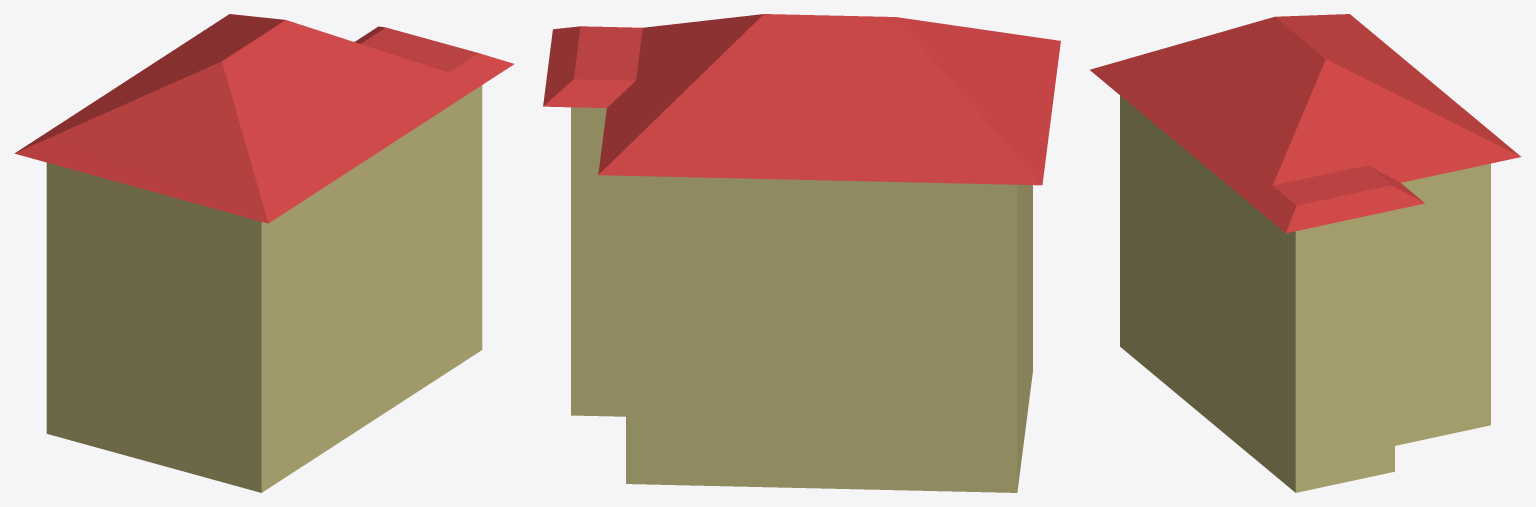
3 renders of one model, left to right at view 1: azimuth 30°, elevation 25°; view 2: azimuth 150°, elevation 25°; view 3: azimuth 270°, elevation 25°, orthographic. The views are drawn at different scales.
Parts seen in each view (by area): view 1: group_9, group_7, group_5, group_3; view 2: group_9, group_7, group_5, group_3, group_4; view 3: group_9, group_7, group_5, group_3, group_4, group_8.
Boxes of the visible parts, <box> form: group_9: <box>46,115,436,492</box>; group_7: <box>14,14,455,223</box>; group_5: <box>436,85,482,378</box>; group_3: <box>355,26,513,101</box>; group_9: <box>626,175,1032,492</box>; group_7: <box>598,14,1060,185</box>; group_5: <box>571,107,625,416</box>; group_3: <box>543,26,642,106</box>; group_4: <box>543,27,611,107</box>; group_9: <box>1120,95,1490,462</box>; group_7: <box>1089,14,1520,194</box>; group_5: <box>1259,210,1394,492</box>; group_3: <box>1239,165,1424,233</box>; group_4: <box>1273,180,1423,232</box>; group_8: <box>1386,143,1517,179</box>.
Size of the model in its own units: 22.94 by 19.1 by 17.02.
